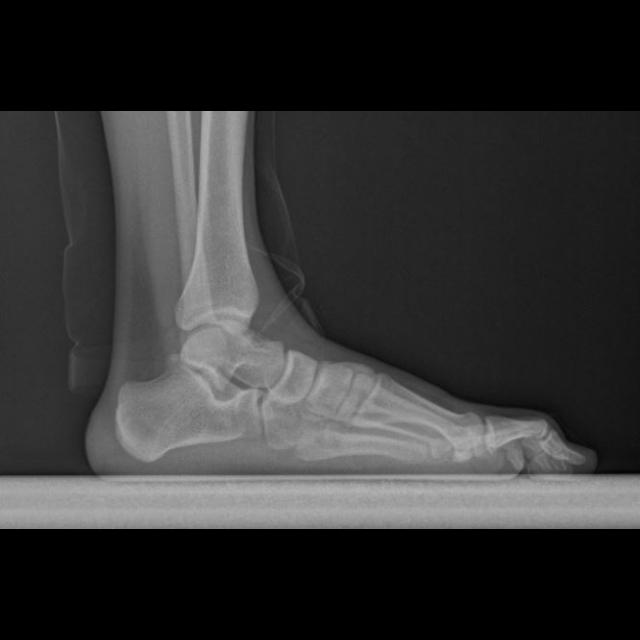a: (115, 364, 262, 462)
b: (269, 350, 318, 404)
c: (353, 372, 486, 466)
